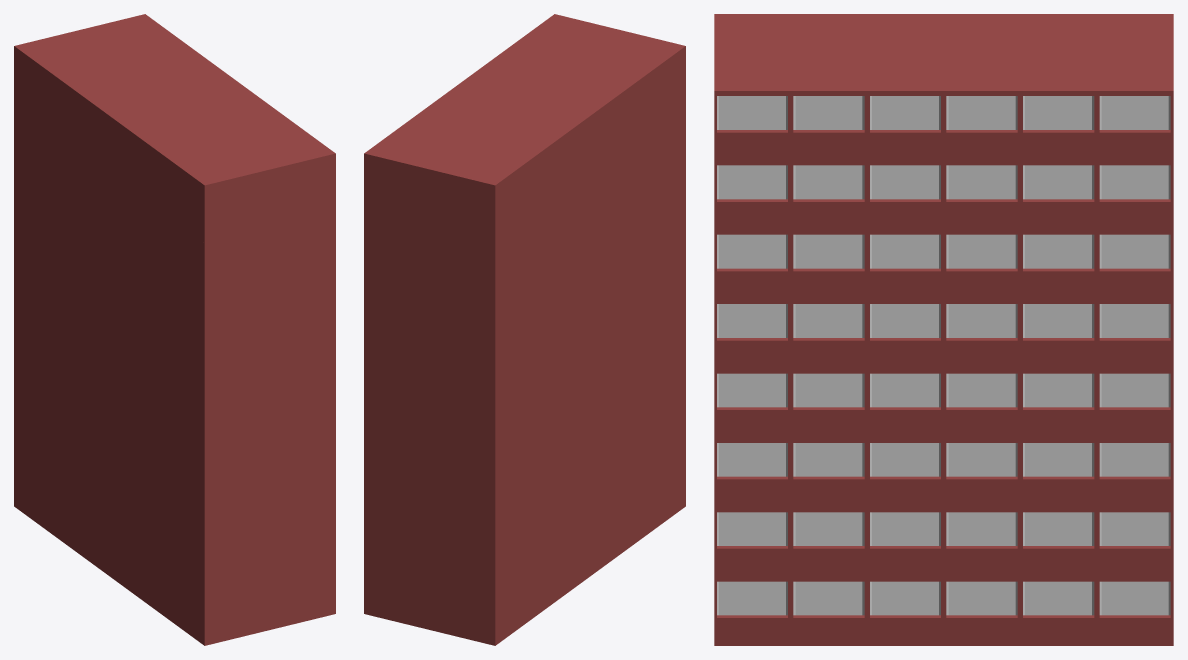
The model's file is commieBlock_-_Copy_2.fbx.
The picture shows the model from 3 angles, left to right: view 1: azimuth 30°, elevation 25°; view 2: azimuth 150°, elevation 25°; view 3: azimuth 270°, elevation 25°; orthographic projection. The views are drawn at different scales.
Parts seen in each view (by area): view 1: Cube; view 2: Cube; view 3: Cube.
Part boxes in pixels (left/top/right/bottom): Cube: left=14, top=14, right=335, bottom=645; Cube: left=364, top=14, right=685, bottom=645; Cube: left=714, top=14, right=1173, bottom=645.
Bounding box in the file's own units: 477 × 1600 × 1200.
